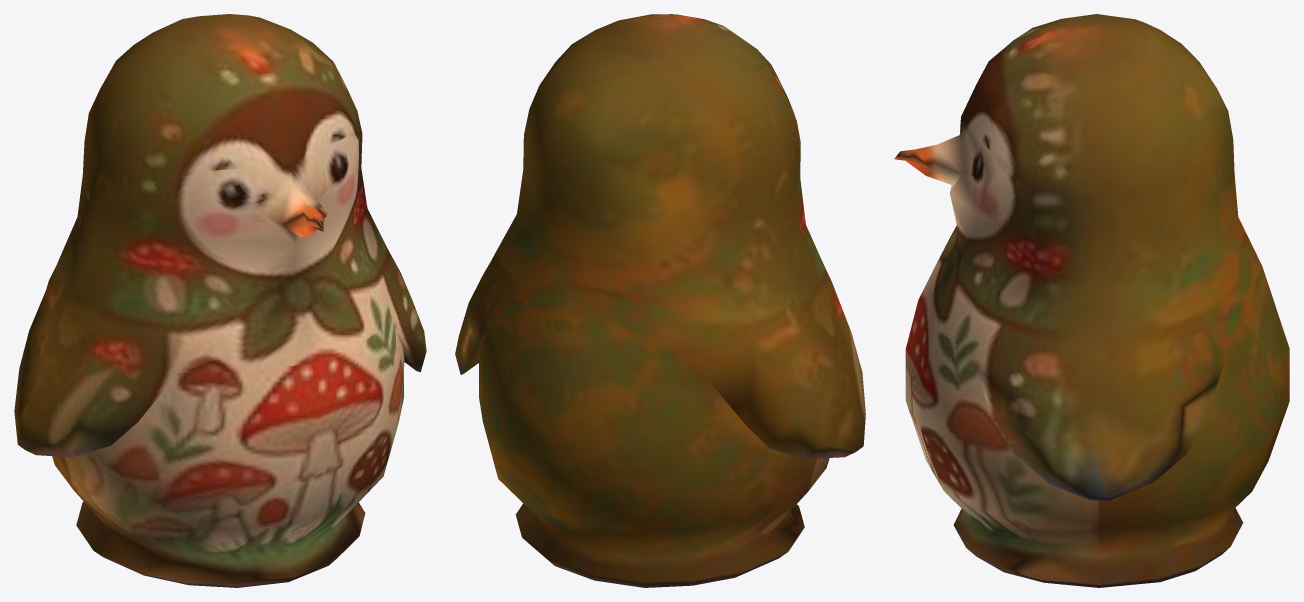
The model's file is penguin-06-41-mushroom-folk-penguin-doll.gltf.
3 views of the same model, side by side, from view 1: azimuth 30°, elevation 25°; view 2: azimuth 150°, elevation 25°; view 3: azimuth 270°, elevation 25° (orthographic).
Visible parts, largest first — view 1: penguin-06-41-mushroom-folk-penguin-doll; view 2: penguin-06-41-mushroom-folk-penguin-doll; view 3: penguin-06-41-mushroom-folk-penguin-doll.
Part boxes in pixels (x1,y1,x2,y2): penguin-06-41-mushroom-folk-penguin-doll: [14, 14, 426, 587]; penguin-06-41-mushroom-folk-penguin-doll: [455, 14, 865, 587]; penguin-06-41-mushroom-folk-penguin-doll: [894, 14, 1289, 587].
Bounding box in the file's own units: 0.2 × 0.2485 × 0.1718.
Materials: 1 (1 with a texture image).
